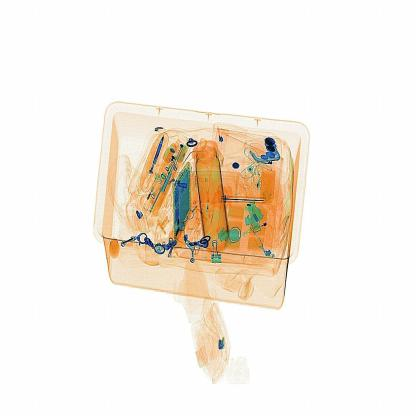wrench: (212, 192, 269, 210)
